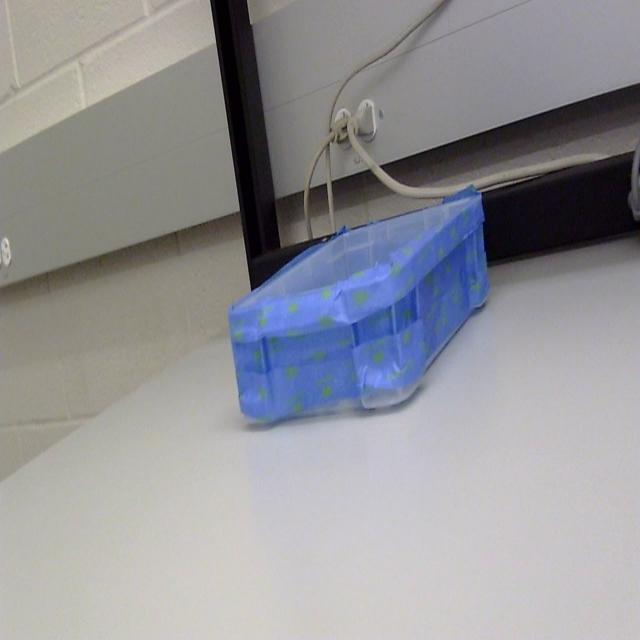bucket: (226, 191, 490, 430)
